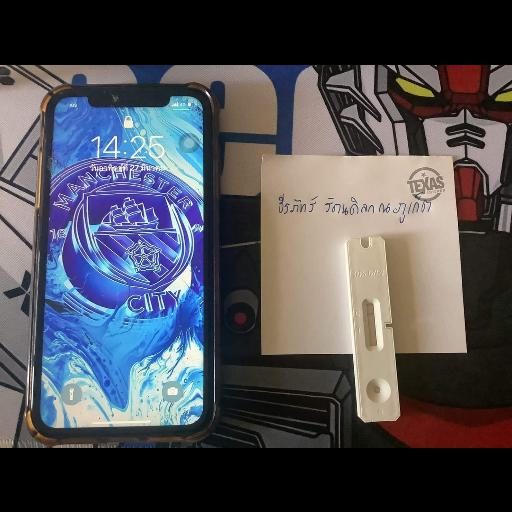Neg: (346, 234, 402, 423)
